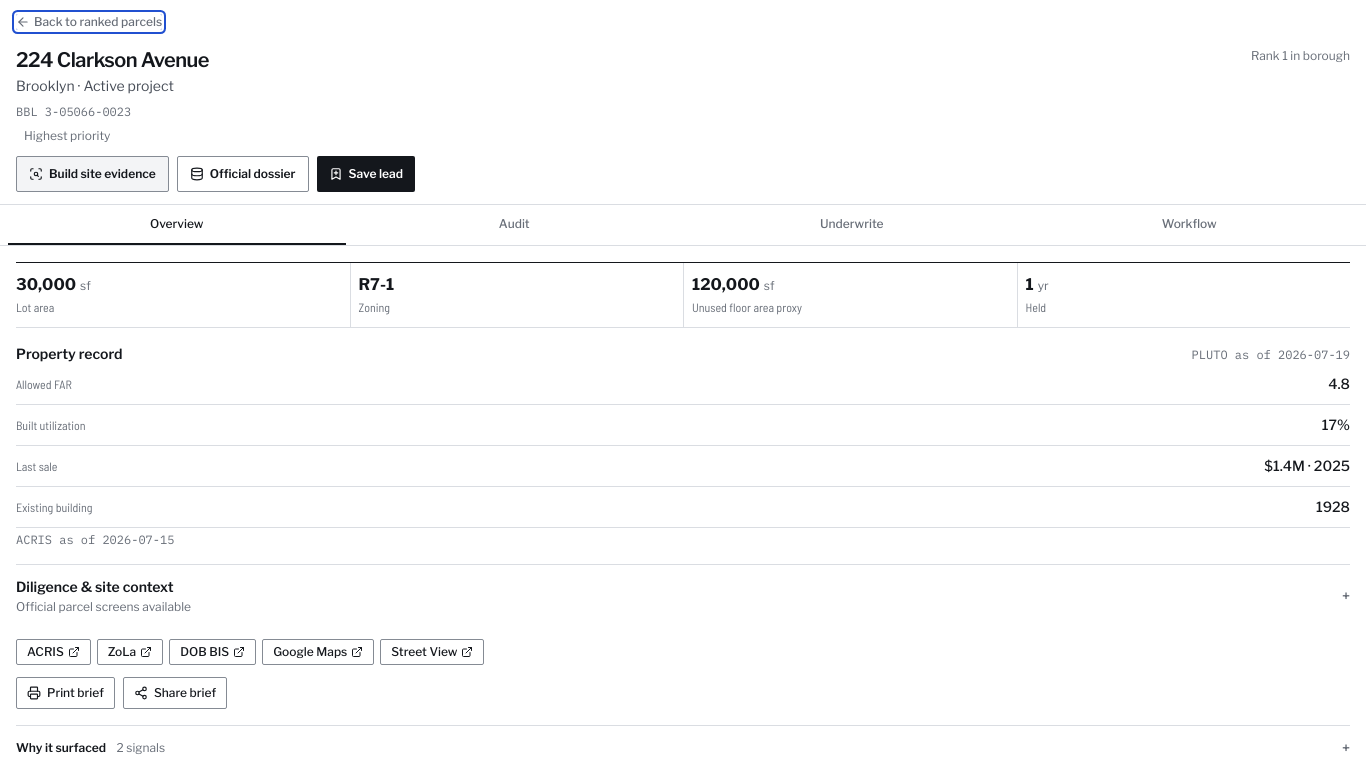
Test: ParcelIntelPropertyPanel › loads the authenticated acquisition workflow into the parcel panel
Step 1. Click the button "Workflow" → (1189, 225), box x1=1020 y1=205 x2=1358 y2=245
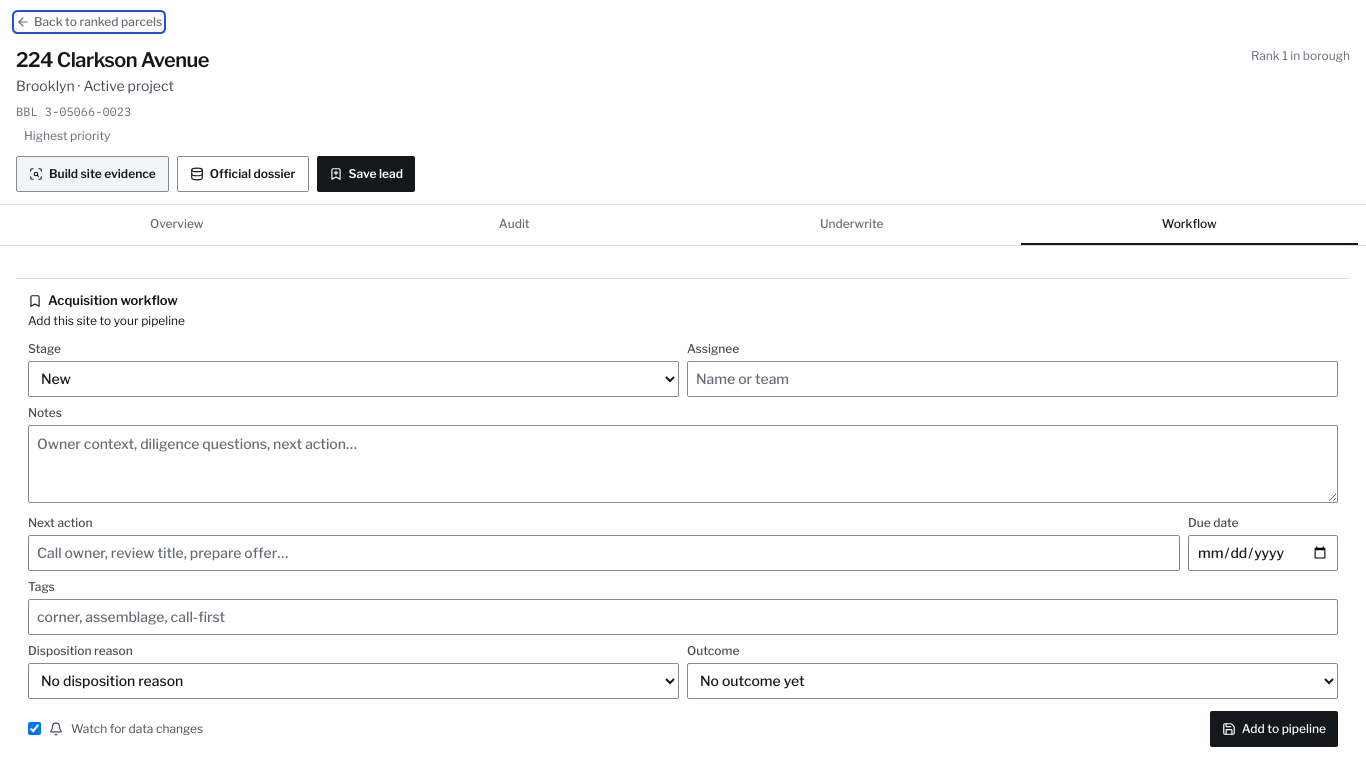
Check: the button "Add to pipeline" is shown, box x1=1210 y1=710 x2=1338 y2=746
